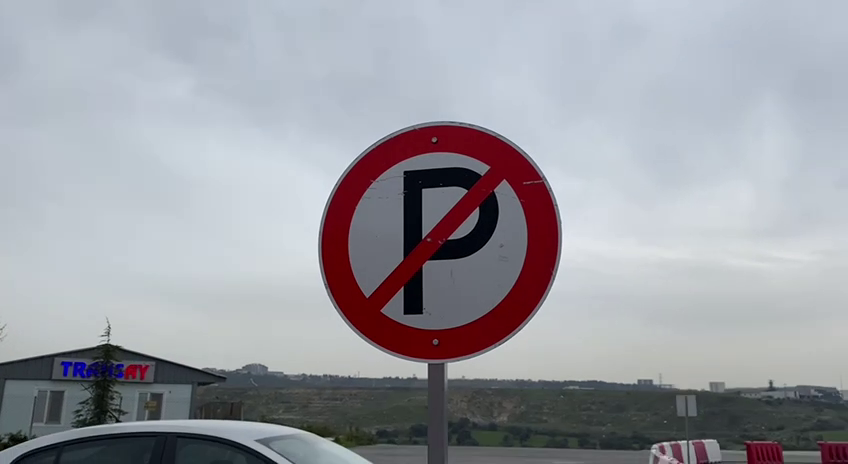noparking: (307, 110, 572, 368)
